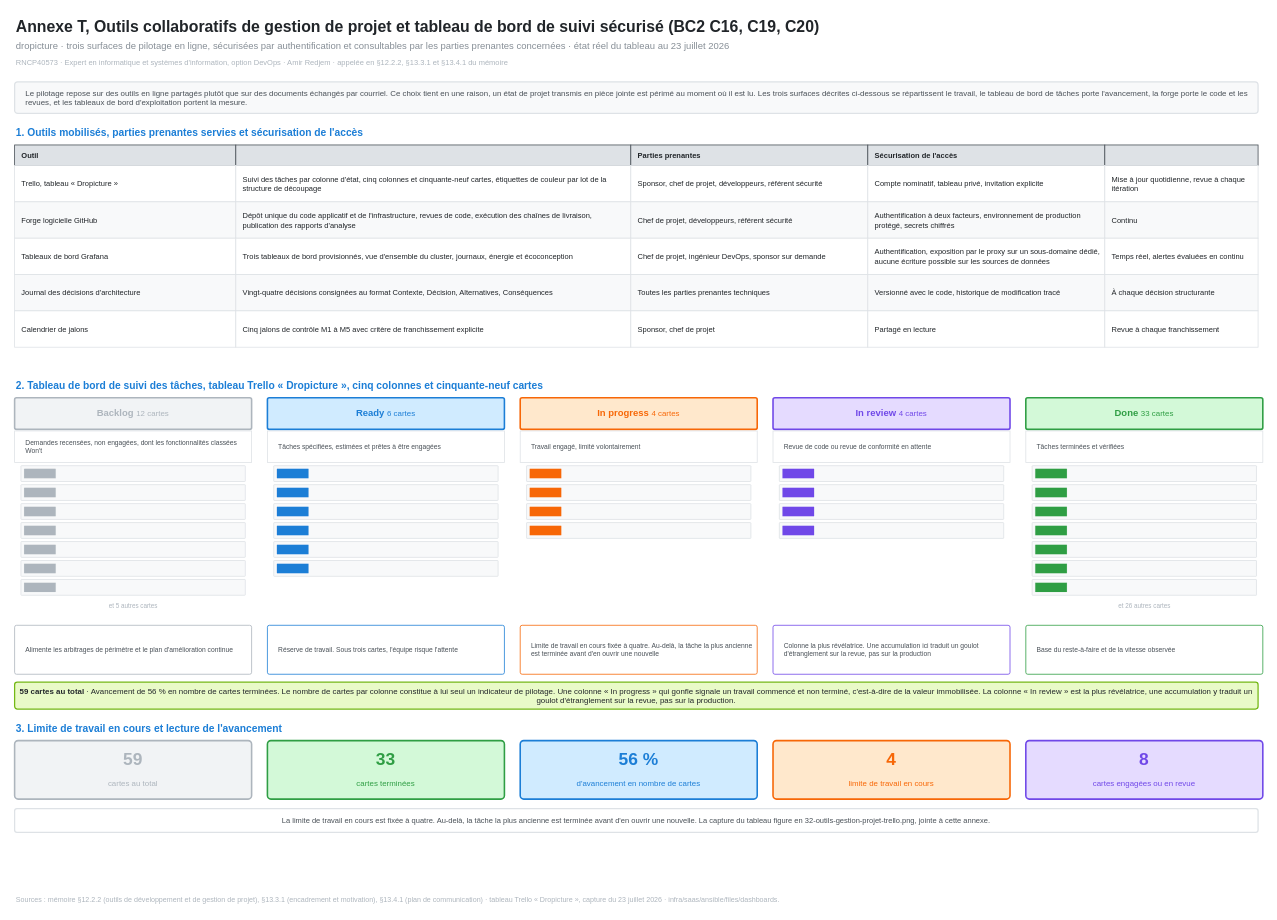
Some shapes in this 1277 by 920 pixel diagram are drawn without their labels. The shapes that lost their labels are listed below. From the top down, each one's box as (x1, y1, x2, y2) in pixels, then its label:
(235, 144, 631, 166): Usage dans le projet
(1104, 144, 1258, 166): Rythme
